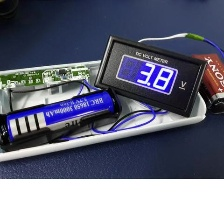battery: (2, 87, 116, 144), (185, 49, 223, 119)
